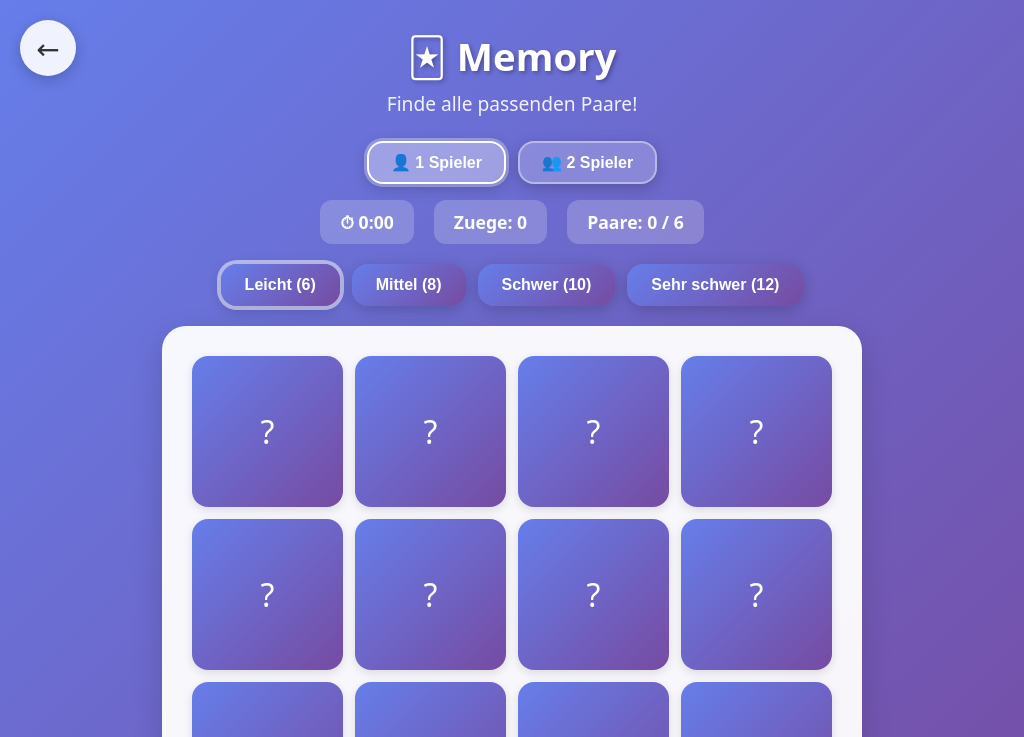
Test: Memory component › shows 2-player mode turn indicator
This screenshot has width=1024, height=737.
Click the button "👥 2 Spieler": x=588, y=162 [518,141,657,184]
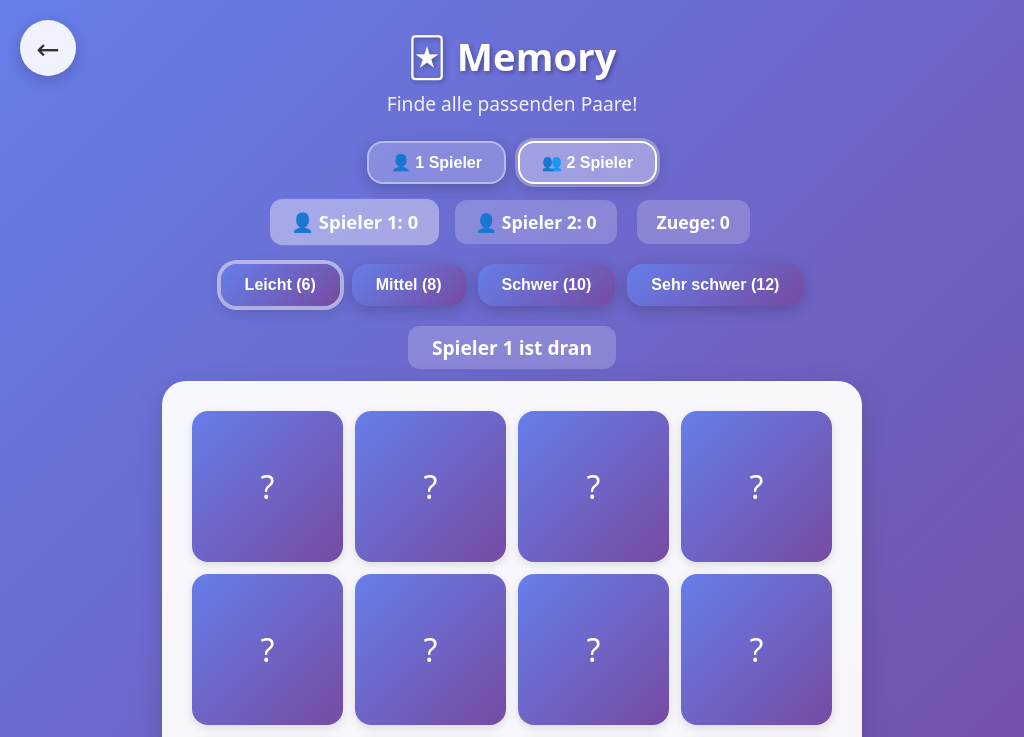
Now the text with class "turn-indicator" reads "Spieler 1 ist dran", box [408,326,616,369]
